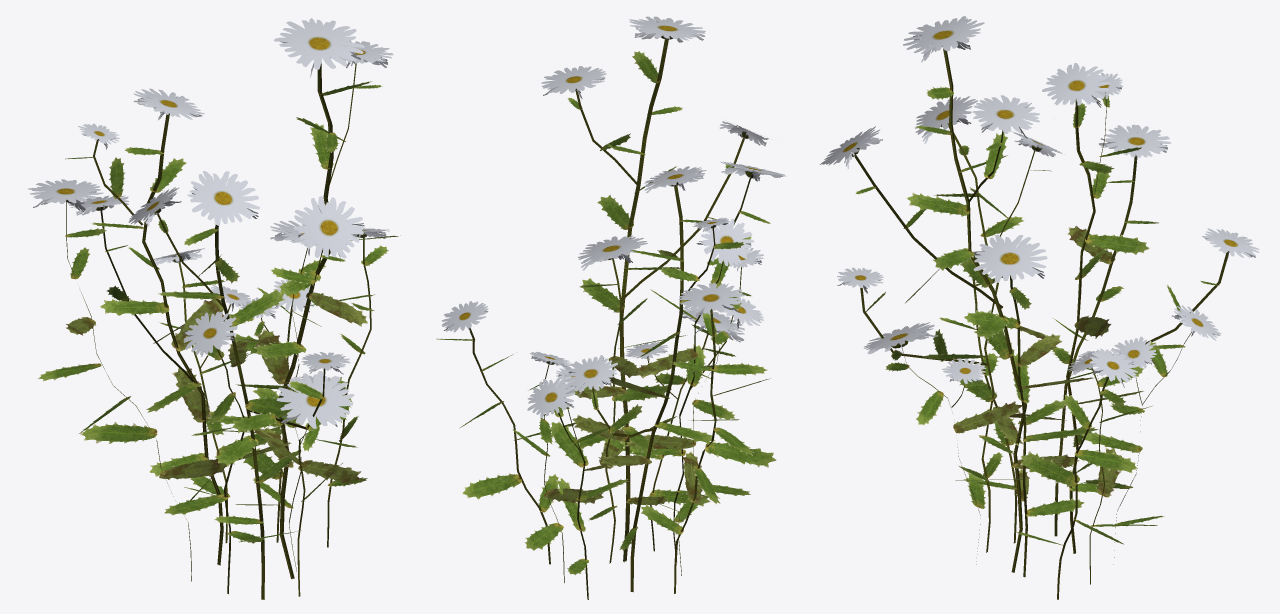
File: miracle-daisy-1.glb
3 renders of one model, left to right at view 1: azimuth 30°, elevation 25°; view 2: azimuth 150°, elevation 25°; view 3: azimuth 270°, elevation 25°, orthographic. The views are drawn at different scales.
Parts seen in each view (by area): view 1: Daisy_patch_small_1_LOD1_Daisy_main_mat_0; view 2: Daisy_patch_small_1_LOD1_Daisy_main_mat_0; view 3: Daisy_patch_small_1_LOD1_Daisy_main_mat_0.
Part boxes in pixels (bbox=[...]): Daisy_patch_small_1_LOD1_Daisy_main_mat_0: bbox=[28, 18, 400, 599]; Daisy_patch_small_1_LOD1_Daisy_main_mat_0: bbox=[436, 16, 786, 599]; Daisy_patch_small_1_LOD1_Daisy_main_mat_0: bbox=[820, 16, 1259, 599].
Bounding box in the file's own units: 0.3394 × 0.52 × 0.3905.
1 material, 1 textured.
